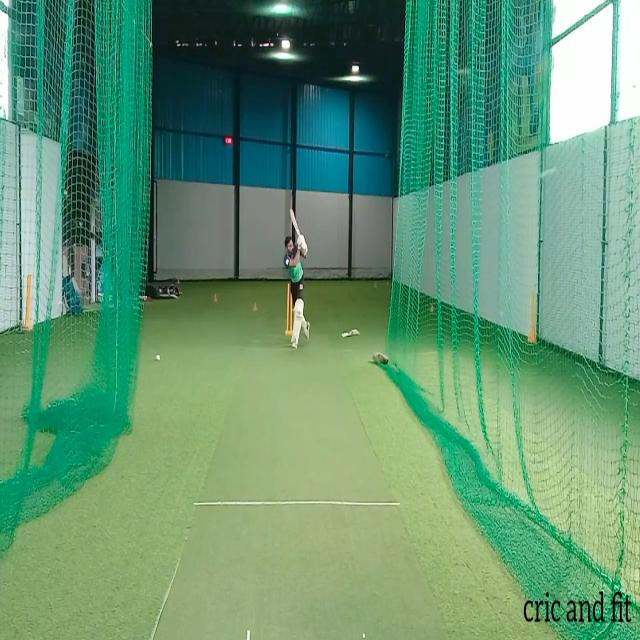batsman: (283, 206, 310, 351)
